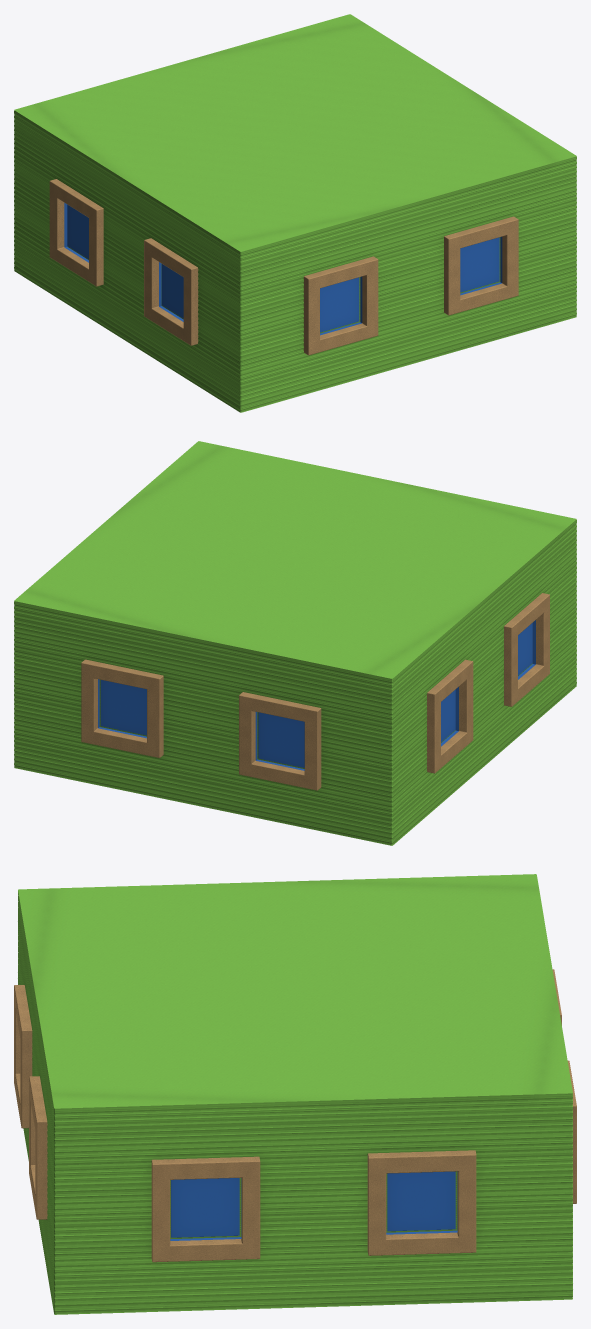
The model's file is 4-green-pad.fbx.
3 views of the same model, one above another, from view 1: azimuth 30°, elevation 25°; view 2: azimuth 150°, elevation 25°; view 3: azimuth 270°, elevation 25° (orthographic). The views are drawn at different scales.
Parts seen in each view (by area): view 1: green-pad; view 2: green-pad; view 3: green-pad.
Part boxes in pixels (x1,y1,x2,y2): green-pad: [14, 14, 576, 412]; green-pad: [14, 441, 576, 845]; green-pad: [14, 874, 576, 1314].
Size of the model in its own units: 7794 by 3150 by 7794.
Materials: 1 (1 with a texture image).
